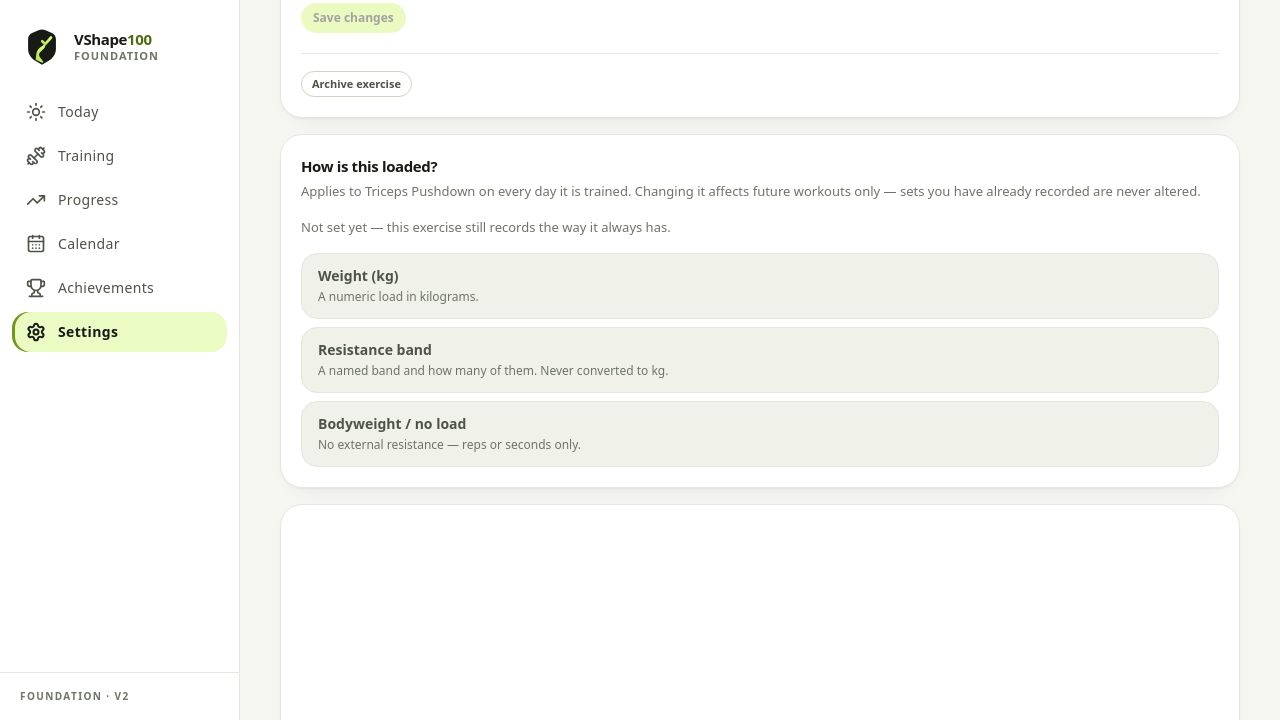
Test case: the input type selector › saves the user’s answer and reflects what the server confirmed
(page scrolled)
Expected: the text "Not set yet — this exercise still records the way it always has." is shown, [301,218,671,237]
Click the radio button labelled "Resistance band" at [375, 350], box [301,328,1219,394]
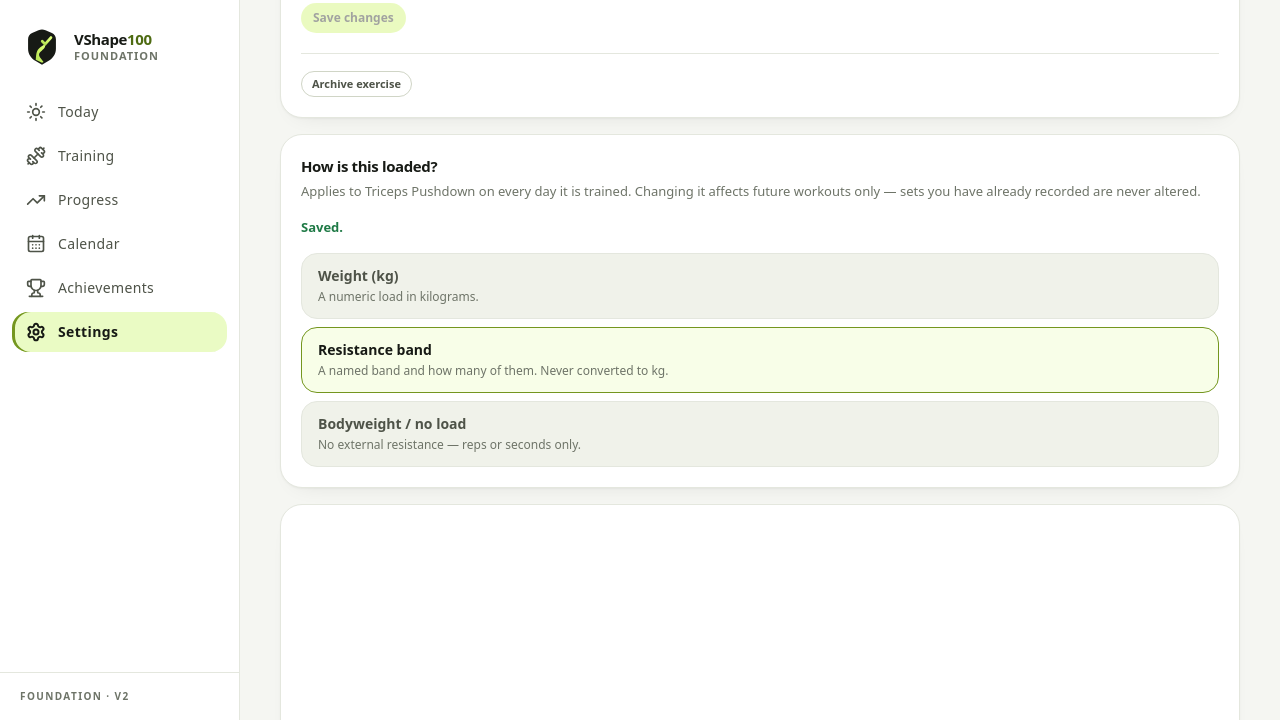
Now the text "Saved." is shown, box [301,218,343,237]
